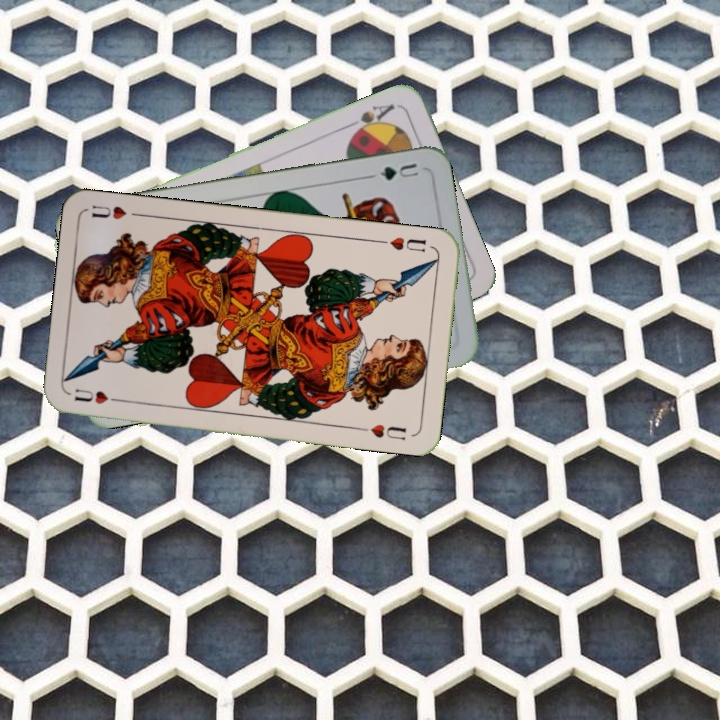GU: (375, 159, 423, 183)
HU: (70, 384, 126, 407), (376, 233, 429, 255)
SA: (343, 99, 397, 139)
